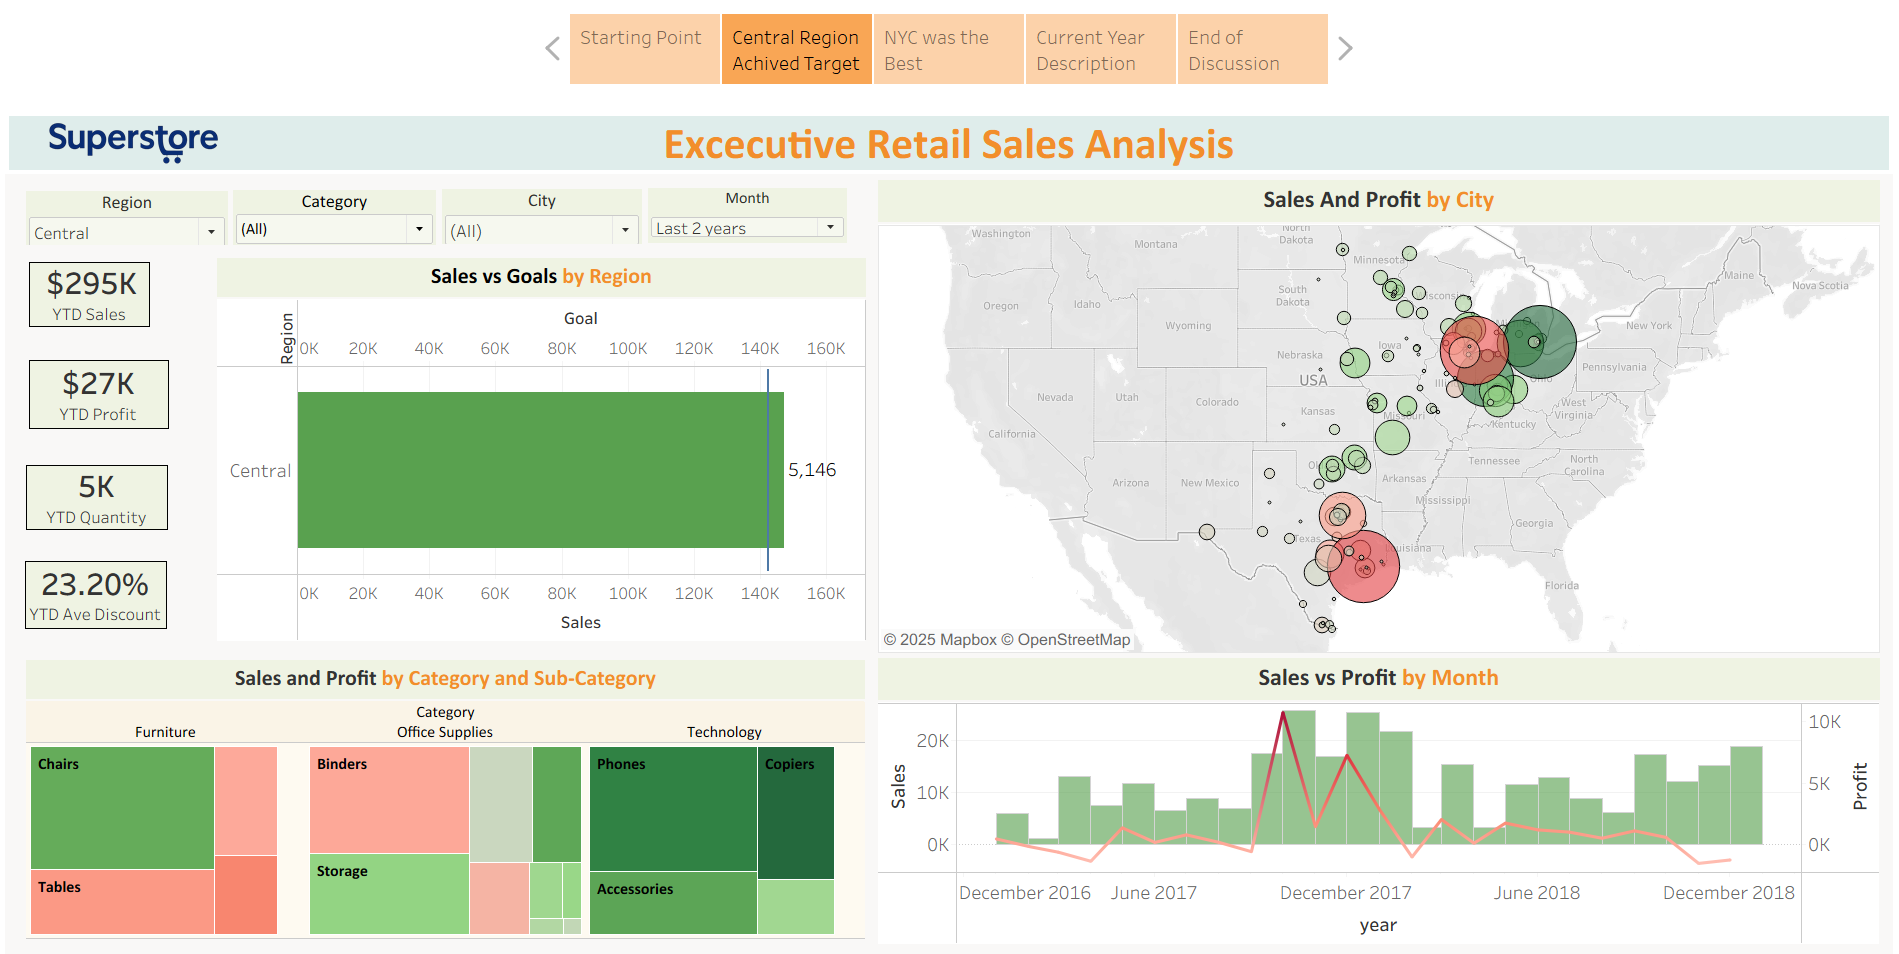

The dashboard page shown, as its layout file describes it:
{"tool":"tableau","page":{"name":"Dashboard 1","canvas":[1000,1000],"units":"permille","ordinal":0},"visuals":[{"type":"title","box":[4.2,8.2,991.7,63.6]},{"type":"image","param":"Image/Logo.png","box":[21.1,14.8,157,60.3]},{"type":"worksheet","title":"Sheet 3","mark":"Automatic","box":[462.9,88.3,526.2,551.7]},{"type":"filter","title":"Sheet 5","param":"[federated.0fsgl0g1t9uvza11zn0zj0y9v6vl].[tmn:Order Date (MDY):qk]","box":[342.1,97.9,104.7,64.3]},{"type":"filter","title":"Sheet 3","param":"[federated.0fsgl0g1t9uvza11zn0zj0y9v6vl].[none:City:nk]","box":[233.6,99.2,105.3,64.3]},{"type":"filter","title":"Sheet 4","param":"[federated.0fsgl0g1t9uvza11zn0zj0y9v6vl].[none:Category:nk]","box":[123.8,100.5,106.6,64.3]},{"type":"filter","title":"Sales vs Goals by Region","param":"[federated.0fsgl0g1t9uvza11zn0zj0y9v6vl].[none:Region:nk]","box":[15.3,101.9,105.9,63]},{"type":"worksheet","title":"Sales vs Goals by Region","mark":"Automatic","rows":["Region"],"cols":["Sales","Goal"],"box":[115.5,179.6,340.8,446.4]},{"type":"worksheet","title":"Sheet 6","mark":"Automatic","box":[16.6,183.7,90,88.5]},{"type":"worksheet","title":"Sheet 6 (2)","mark":"Automatic","box":[16.6,298.9,90,93.8]},{"type":"worksheet","title":"Sheet 6 (3)","mark":"Automatic","box":[15.3,420.9,91.3,88.5]},{"type":"worksheet","title":"Sheet 6 (4)","mark":"Automatic","box":[14.7,532.2,90.6,91.2]},{"type":"worksheet","title":"Sheet 5","mark":"Automatic","rows":["Sales","Profit"],"cols":["Order Date (MDY)"],"box":[462.9,645.8,526.2,333.3]},{"type":"worksheet","title":"Sheet 4","mark":"Automatic","cols":["Category"],"box":[15.1,648.1,440.6,327.5]}]}

Visuals, with their boxes on the dashboard's canvas, which has no fixed pixel size, in thousandths of its width and height (x1, y1, x2, y2). These are canvas units, not pixel positions in the 1899x954 screenshot, which may show the page scaled, cropped or inside an application window:
title: 4:8:996:72
image: 21:15:178:75
"Sheet 3" worksheet: 463:88:989:640
"Sheet 5" filter: 342:98:447:162
"Sheet 3" filter: 234:99:339:164
"Sheet 4" filter: 124:100:230:165
"Sales vs Goals by Region" filter: 15:102:121:165
"Sales vs Goals by Region" worksheet: 116:180:456:626
"Sheet 6" worksheet: 17:184:107:272
"Sheet 6 (2)" worksheet: 17:299:107:393
"Sheet 6 (3)" worksheet: 15:421:107:509
"Sheet 6 (4)" worksheet: 15:532:105:623
"Sheet 5" worksheet: 463:646:989:979
"Sheet 4" worksheet: 15:648:456:976
